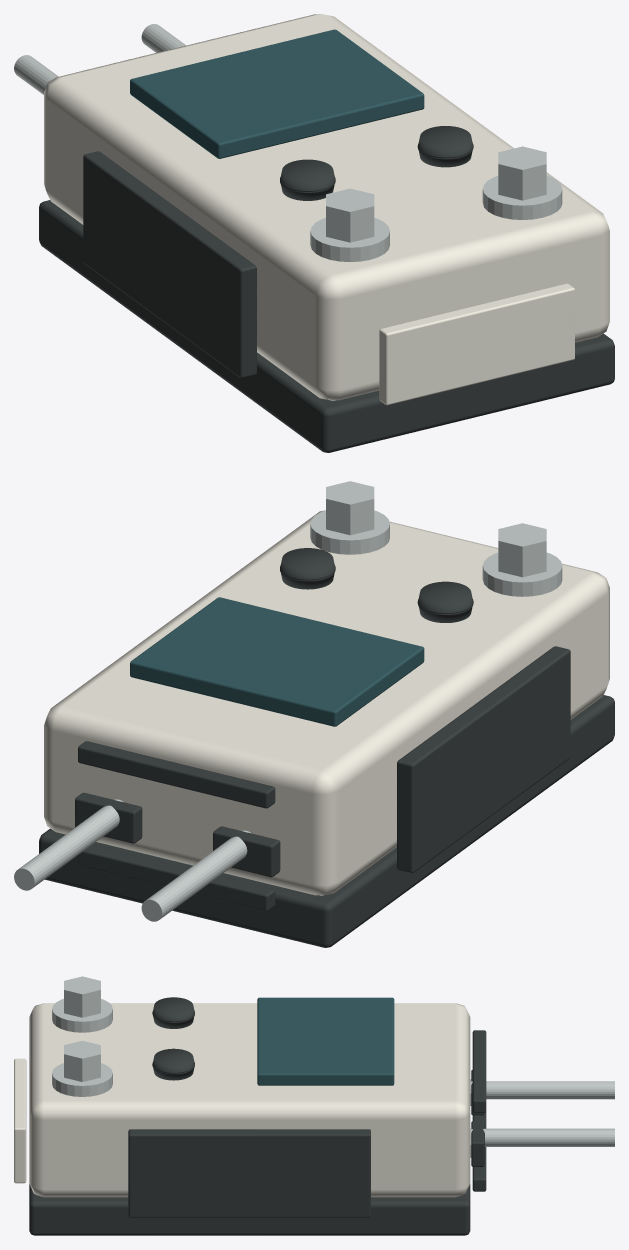
The model's file is tea-garden-and-processing-house-tea-garden-and-process-51c2b906__30783.glb.
3 renders of one model, top to bottom at view 1: azimuth 30°, elevation 25°; view 2: azimuth 150°, elevation 25°; view 3: azimuth 270°, elevation 25°, orthographic. The views are drawn at different scales.
Visible parts, largest first — view 1: tea-garden-and-processing-house-moisture-meter; view 2: tea-garden-and-processing-house-moisture-meter; view 3: tea-garden-and-processing-house-moisture-meter.
Boxes of the visible parts, box(x1,y1,x2,y2) form: tea-garden-and-processing-house-moisture-meter: box(14, 14, 614, 452); tea-garden-and-processing-house-moisture-meter: box(14, 481, 614, 947); tea-garden-and-processing-house-moisture-meter: box(14, 976, 614, 1235).
Size of the model in its own units: 0.192 by 0.12 by 0.395.
